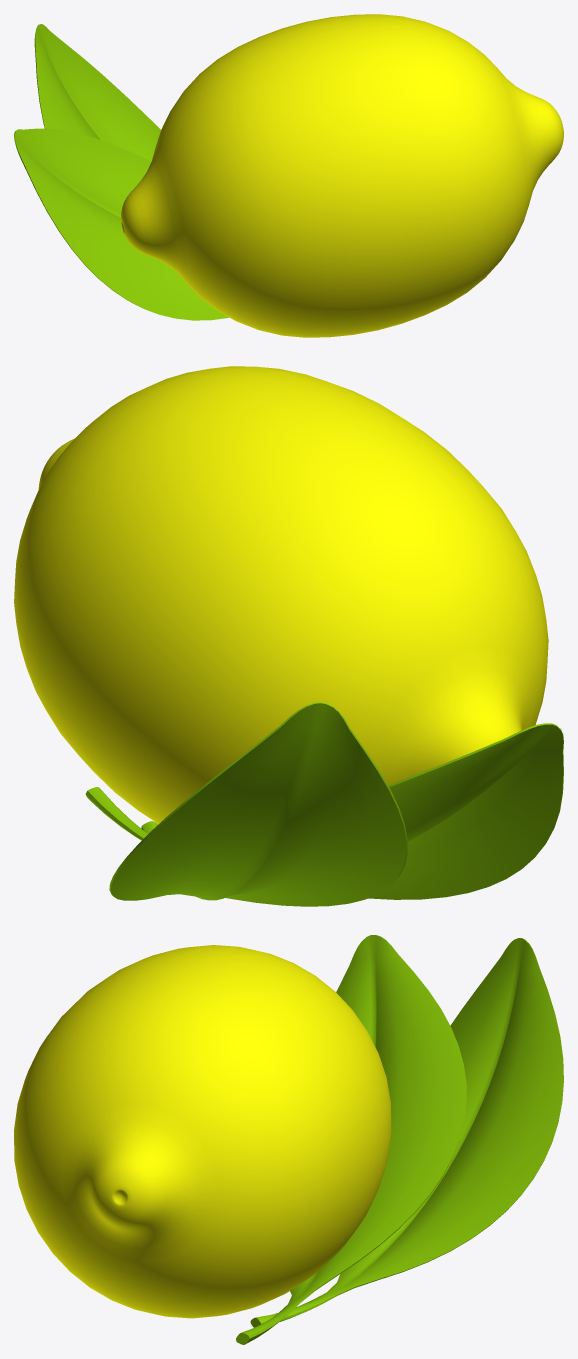
File: poke_ball_06lemon.glb
The picture shows the model from 3 angles, top to bottom: view 1: azimuth 30°, elevation 25°; view 2: azimuth 150°, elevation 25°; view 3: azimuth 270°, elevation 25°; orthographic projection. The views are drawn at different scales.
Parts seen in each view (by area): view 1: Lemon, Leaf2, Leaf; view 2: Lemon, Leaf, Leaf2; view 3: Lemon, Leaf, Leaf2.
Part boxes in pixels (x1,y1,x2,y2): Lemon: [121, 14, 563, 337]; Leaf2: [14, 128, 228, 320]; Leaf: [34, 24, 160, 161]; Lemon: [14, 366, 548, 823]; Leaf: [109, 702, 407, 906]; Leaf2: [85, 723, 563, 899]; Lemon: [14, 945, 391, 1318]; Leaf: [250, 938, 563, 1327]; Leaf2: [236, 935, 466, 1344].
Size of the model in its own units: 3.25 by 2.04 by 3.05.
